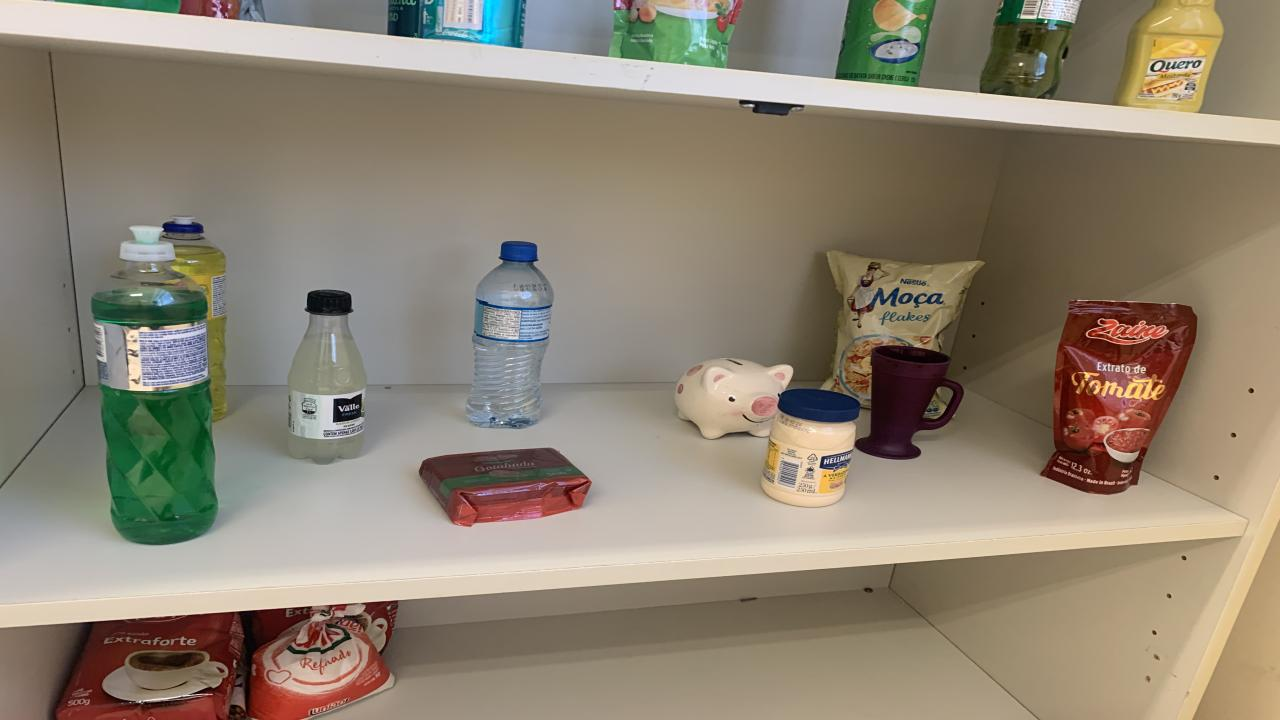Detergent-Cleanup_Items: (92, 225, 218, 544), (160, 216, 228, 420)
Flakes-Snacks: (822, 251, 982, 407)
Guarana-Drinks: (980, 0, 1080, 99)
Guarana_Can-Drinks: (388, 0, 422, 38)
Guava-Snacks: (420, 448, 590, 527)
Mayonnaise-Pantry_Items: (762, 388, 860, 506)
Mustard-Pantry_Items: (1112, 0, 1225, 112)
Pig_Safe-Miscellaneous: (675, 358, 792, 439)
Pringles-Snacks: (835, 0, 935, 86)
Soda-Drinks: (288, 291, 368, 463)
Tea-Drinks: (420, 0, 525, 47)
Tomato_Sauce-Pantry_Items: (1040, 300, 1198, 495), (610, 0, 742, 68), (180, 0, 265, 22)
Water_Bottle-Drinks: (468, 242, 555, 428)
